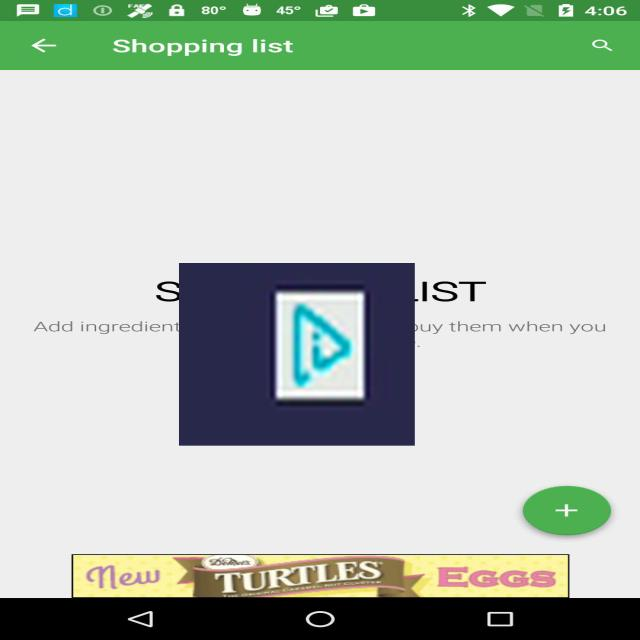sneaking: (179, 263, 415, 446)
